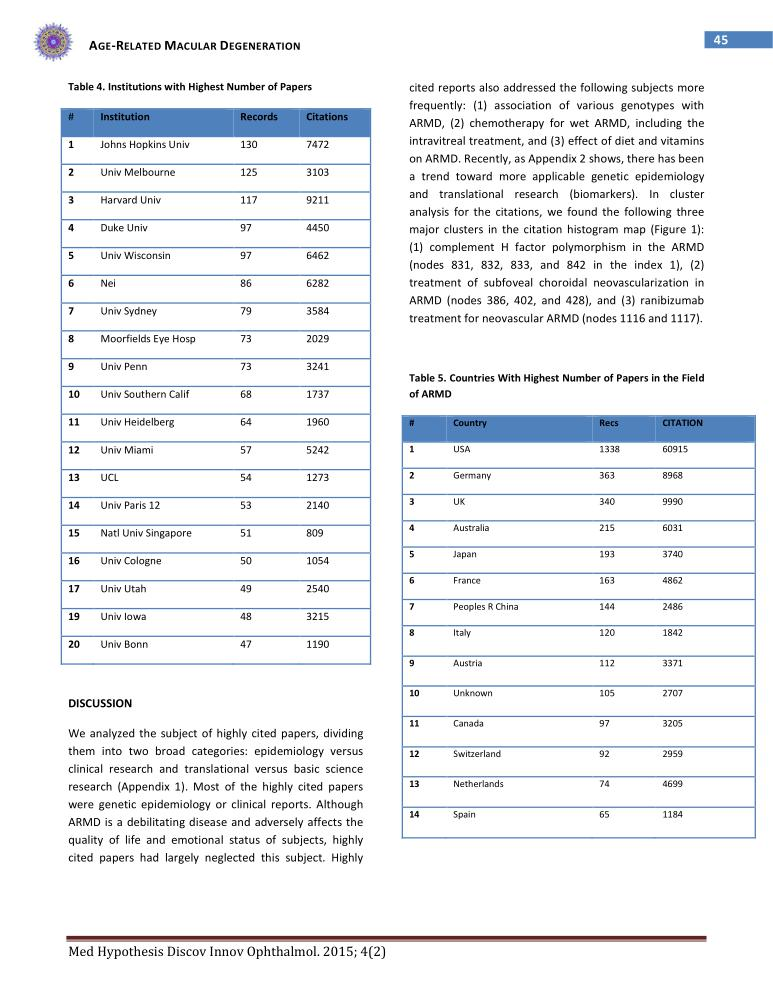table: (68, 111, 347, 650), (408, 418, 702, 819)
